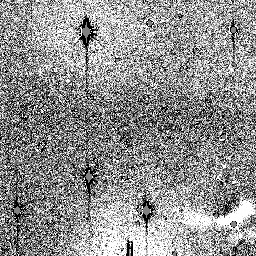LE: (208, 196, 249, 222)
